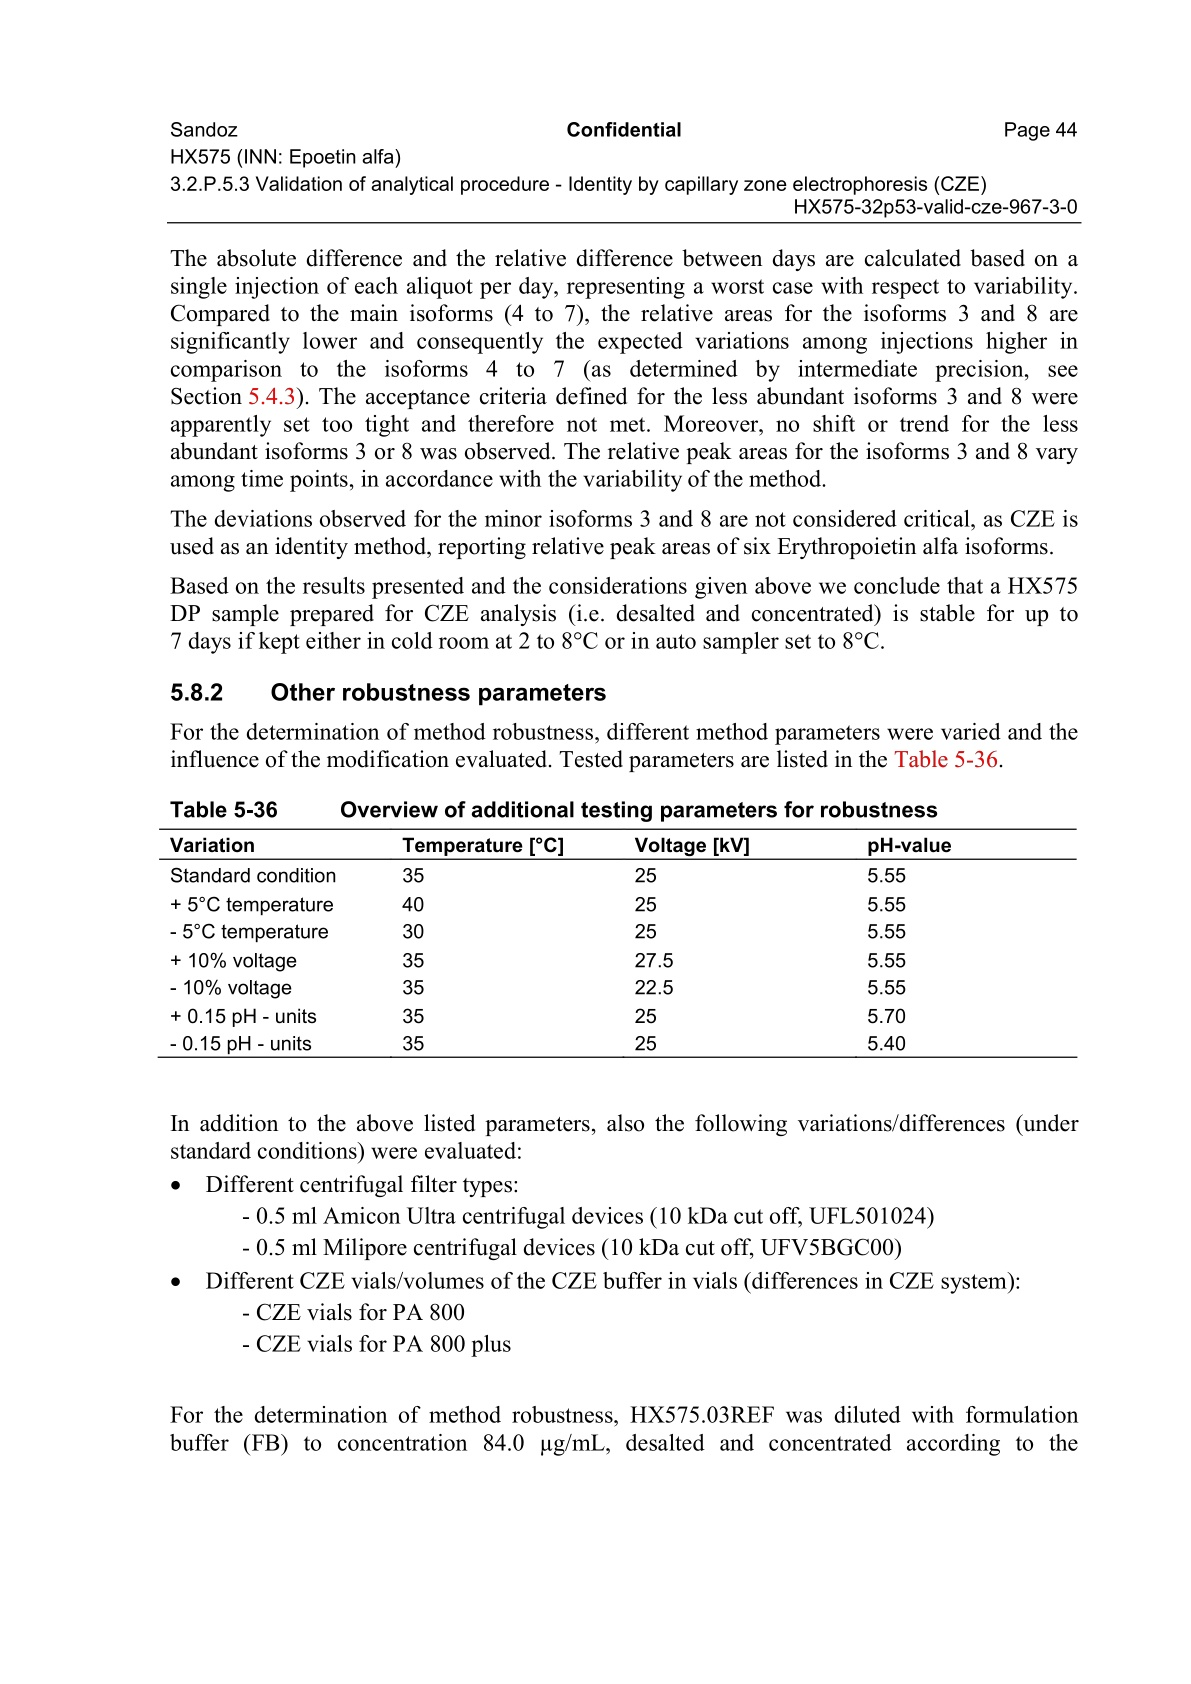partial_lined: (156, 826, 1078, 1059)
